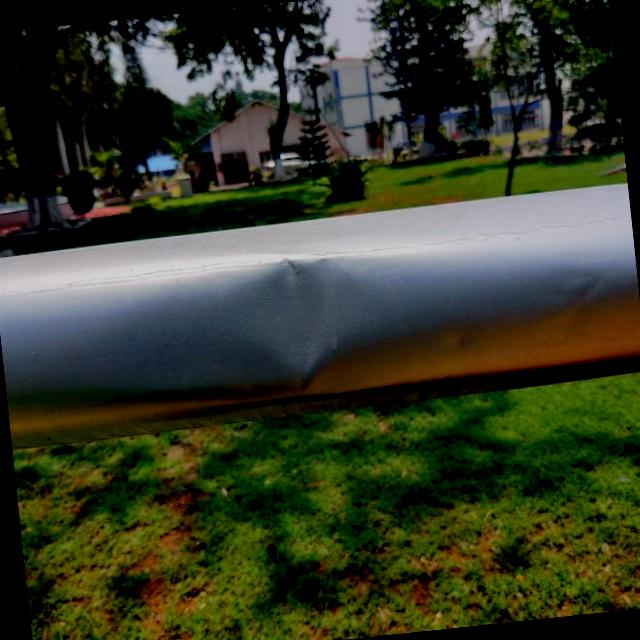dent: (213, 232, 383, 416)
